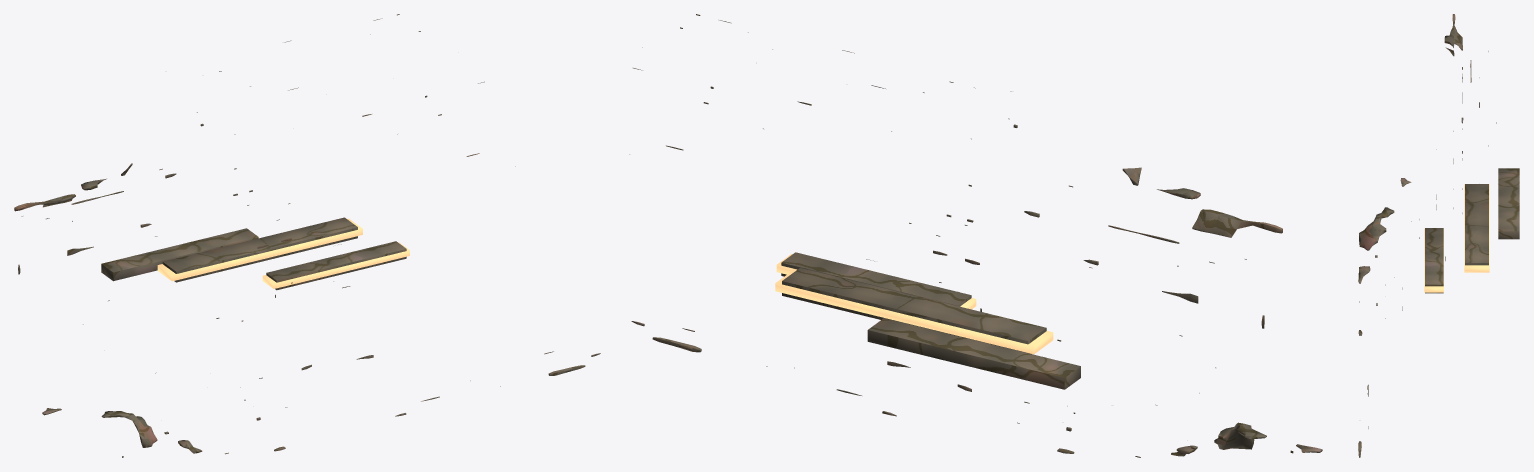
Rendered from helios_rock_b.glb.
3 renders of one model, left to right at view 1: azimuth 30°, elevation 25°; view 2: azimuth 150°, elevation 25°; view 3: azimuth 270°, elevation 25°, orthographic. The views are drawn at different scales.
Visible parts, largest first — view 1: LOD0_Merged_Material_Rock, LOD0_Merged_Material_Warm, LOD2_Merged_Material_Rock; view 2: LOD0_Merged_Material_Rock, LOD0_Merged_Material_Warm, LOD2_Merged_Material_Rock; view 3: LOD0_Merged_Material_Rock, LOD0_Merged_Material_Warm, LOD2_Merged_Material_Rock.
Boxes of the visible parts, box(x1,y1,x2,y2) form: LOD0_Merged_Material_Rock: box(14, 14, 600, 457); LOD0_Merged_Material_Warm: box(157, 218, 409, 288); LOD2_Merged_Material_Rock: box(15, 20, 571, 453); LOD0_Merged_Material_Rock: box(629, 14, 1322, 457); LOD0_Merged_Material_Warm: box(775, 254, 1053, 354); LOD2_Merged_Material_Rock: box(633, 22, 1320, 456); LOD0_Merged_Material_Rock: box(1358, 14, 1519, 457); LOD0_Merged_Material_Warm: box(1424, 184, 1489, 292); LOD2_Merged_Material_Rock: box(1358, 18, 1470, 450).
Size of the model in its own units: 10.26 by 6.1 by 3.16.
Materials: 2 (2 with a texture image).
